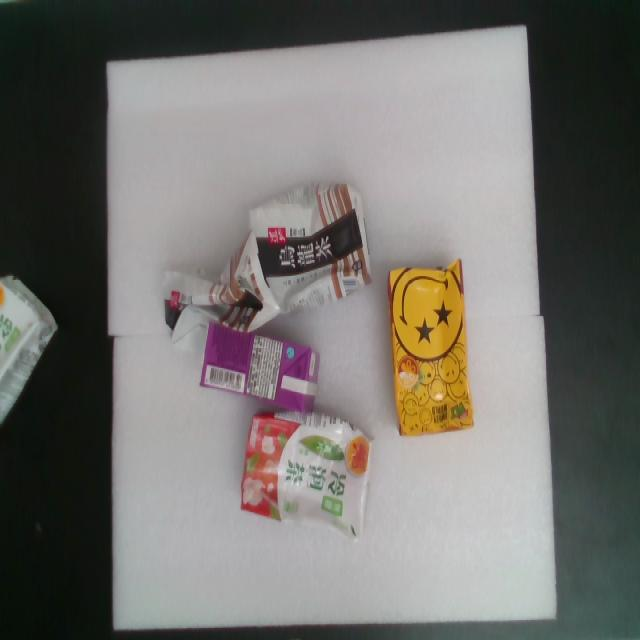juicebox: (211, 391, 401, 559), (227, 164, 400, 347), (375, 241, 487, 468), (130, 214, 293, 362), (179, 302, 348, 431)
